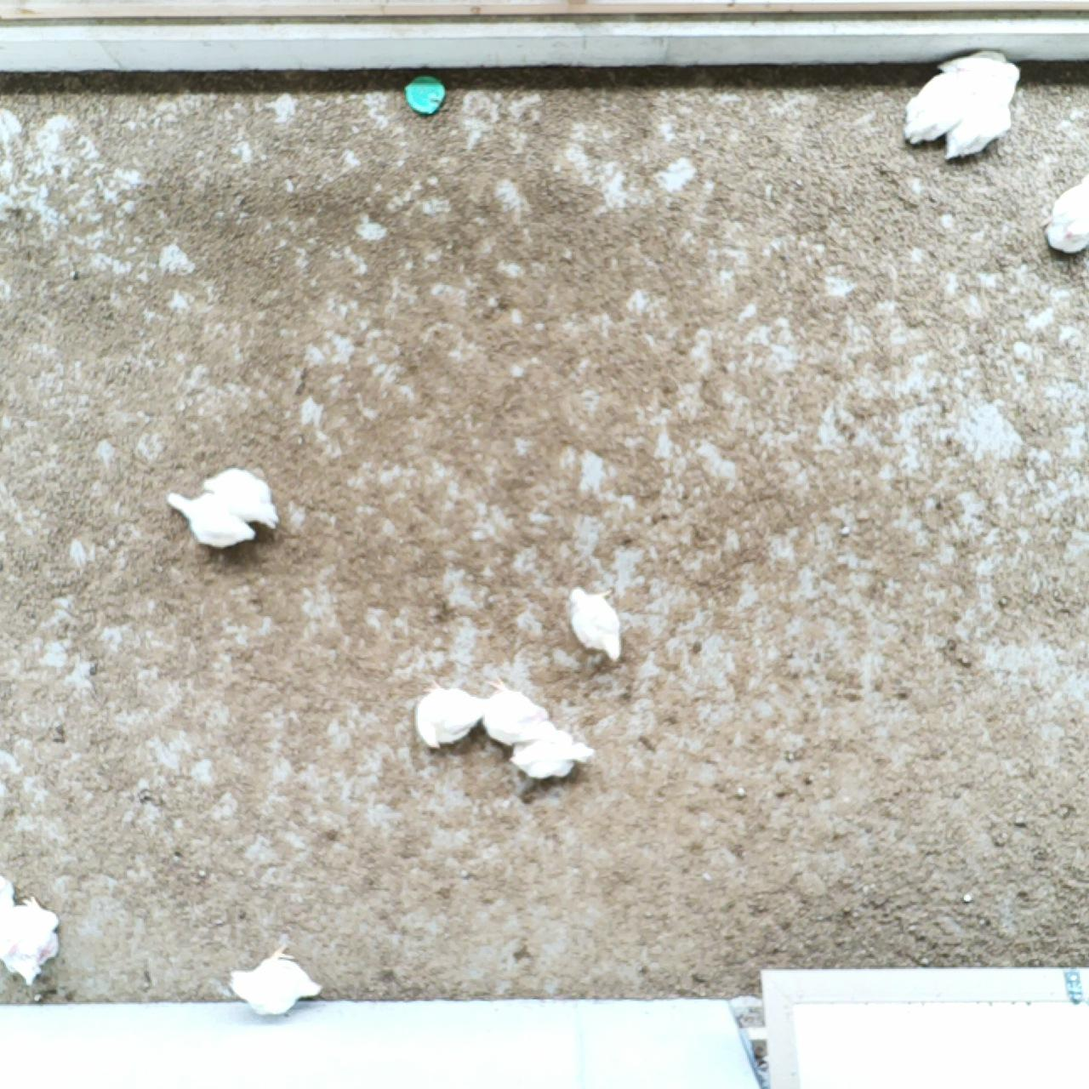chicken: (224, 938, 325, 1022), (898, 67, 981, 151), (942, 87, 1022, 168), (164, 488, 258, 554), (559, 577, 628, 666), (0, 895, 65, 988), (505, 717, 595, 783), (198, 465, 283, 534), (412, 677, 487, 747), (481, 676, 551, 749), (1038, 168, 1089, 257), (932, 44, 1024, 87)
